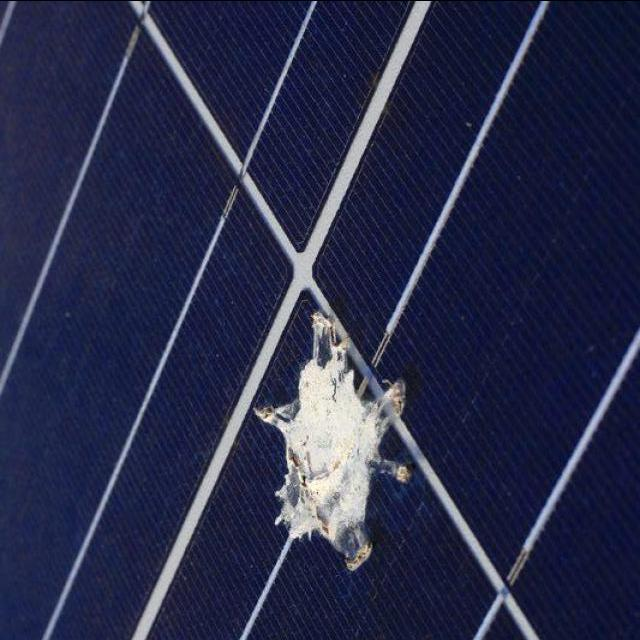soiled: (226, 276, 450, 598)
